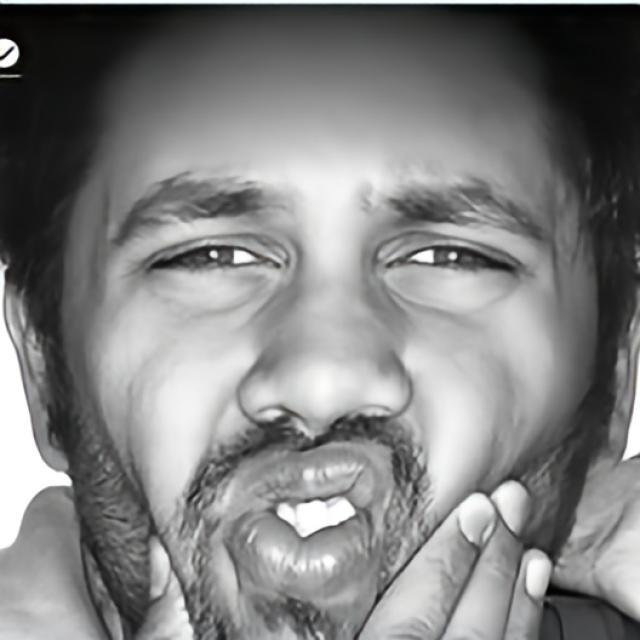disgust: (63, 0, 600, 640)
